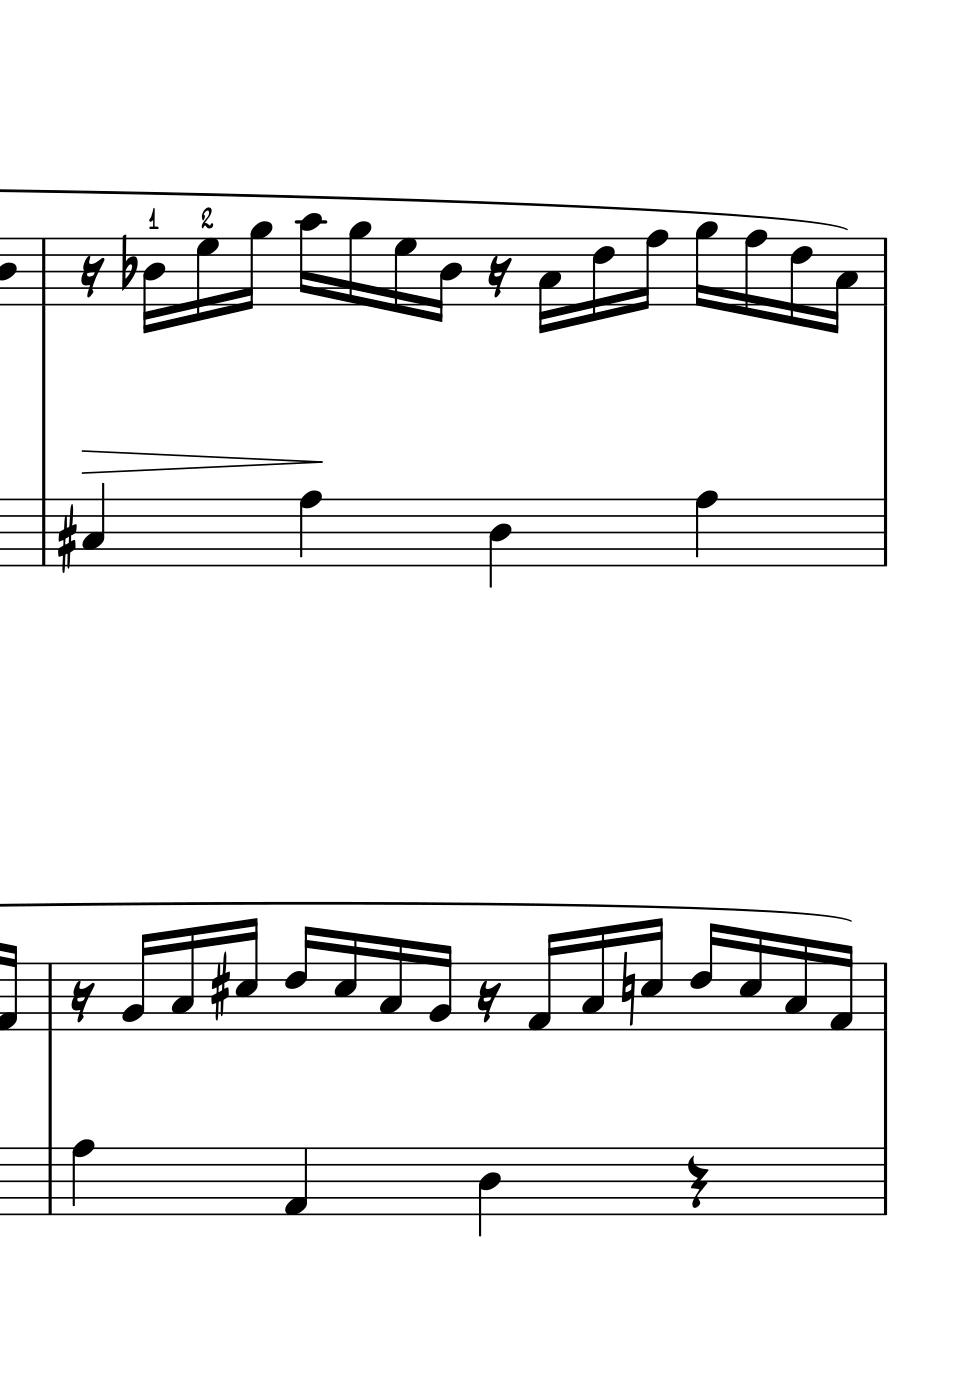1: (145, 204, 163, 232)
16_1: (525, 930, 559, 1033), (829, 942, 854, 1034), (1, 942, 18, 1035)
16_10: (296, 211, 325, 308)
16_2: (119, 931, 152, 1031), (426, 941, 453, 1032)
16_3: (827, 235, 858, 335), (168, 926, 194, 1032), (781, 934, 808, 1031), (377, 935, 403, 1032), (536, 236, 561, 335)
16_4: (432, 235, 462, 324), (140, 236, 165, 335)
16_5: (638, 915, 665, 1032), (234, 915, 260, 1031), (331, 928, 358, 1032), (736, 926, 763, 1032)
16_6: (688, 919, 722, 1032), (282, 923, 316, 1032), (787, 235, 813, 329), (590, 234, 615, 324)
16_7: (193, 233, 218, 327), (391, 234, 415, 319)
16_8: (634, 229, 667, 313), (742, 227, 766, 321)
16_9: (239, 220, 272, 312), (692, 220, 716, 310), (346, 220, 370, 309)
2: (199, 201, 215, 234)
4_1: (281, 1147, 309, 1218)
4_3: (81, 480, 106, 568)
4_4: (487, 497, 512, 589), (476, 1146, 501, 1236)
4_8: (69, 1137, 95, 1215), (297, 489, 322, 568), (693, 489, 718, 567)
8_3: (579, 924, 605, 1033)
Diminuendo_hairpin: (78, 448, 322, 478)
Flat: (119, 233, 137, 292)
Natural: (619, 951, 637, 1028)
Rests16: (474, 978, 501, 1025), (69, 979, 95, 1024), (486, 255, 512, 299), (78, 255, 104, 299)
Rests4: (685, 1154, 708, 1211)
Sharp: (54, 503, 77, 575), (209, 953, 231, 1022)
Single_barline: (35, 238, 51, 304), (41, 963, 57, 1030), (877, 963, 893, 1030), (42, 1148, 58, 1214), (877, 1150, 893, 1214), (36, 499, 51, 566), (878, 236, 892, 306), (877, 501, 892, 565)
